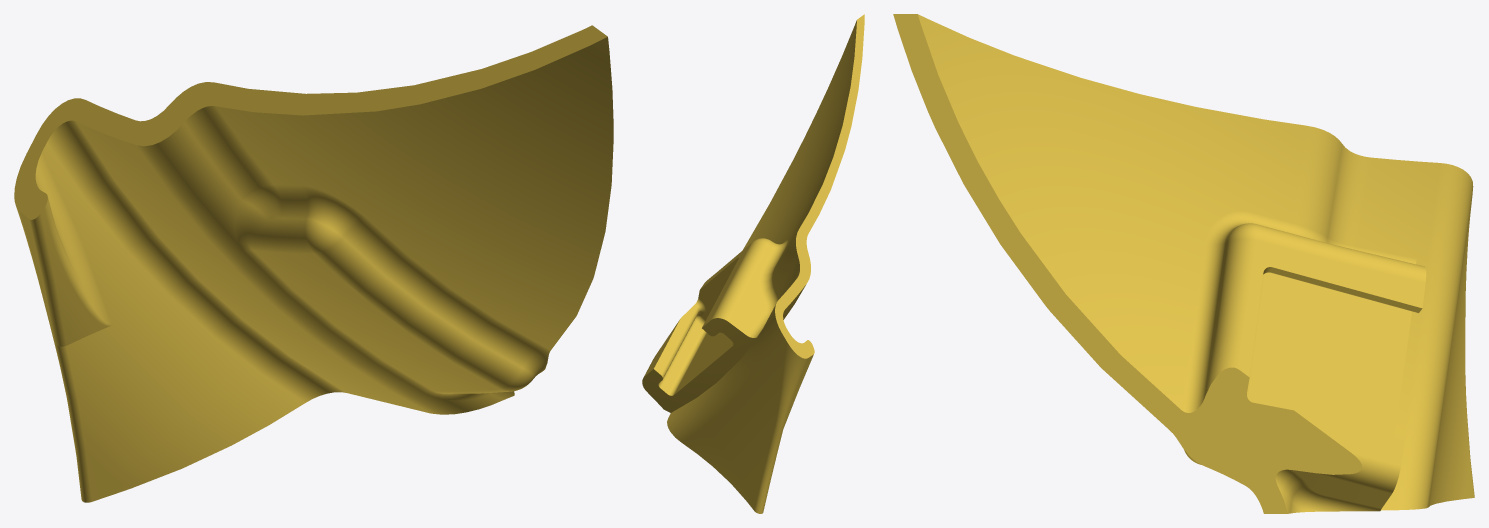
3 renders of one model, left to right at view 1: azimuth 30°, elevation 25°; view 2: azimuth 150°, elevation 25°; view 3: azimuth 270°, elevation 25°, orthographic. The views are drawn at different scales.
Visible parts, largest first — view 1: Body1; view 2: Body1; view 3: Body1.
Boxes of the visible parts, left/top/right/bottom form: Body1: left=14, top=25, right=613, bottom=502; Body1: left=642, top=14, right=864, bottom=513; Body1: left=893, top=14, right=1474, bottom=513.
Size of the model in its own units: 430 by 748 by 723.
